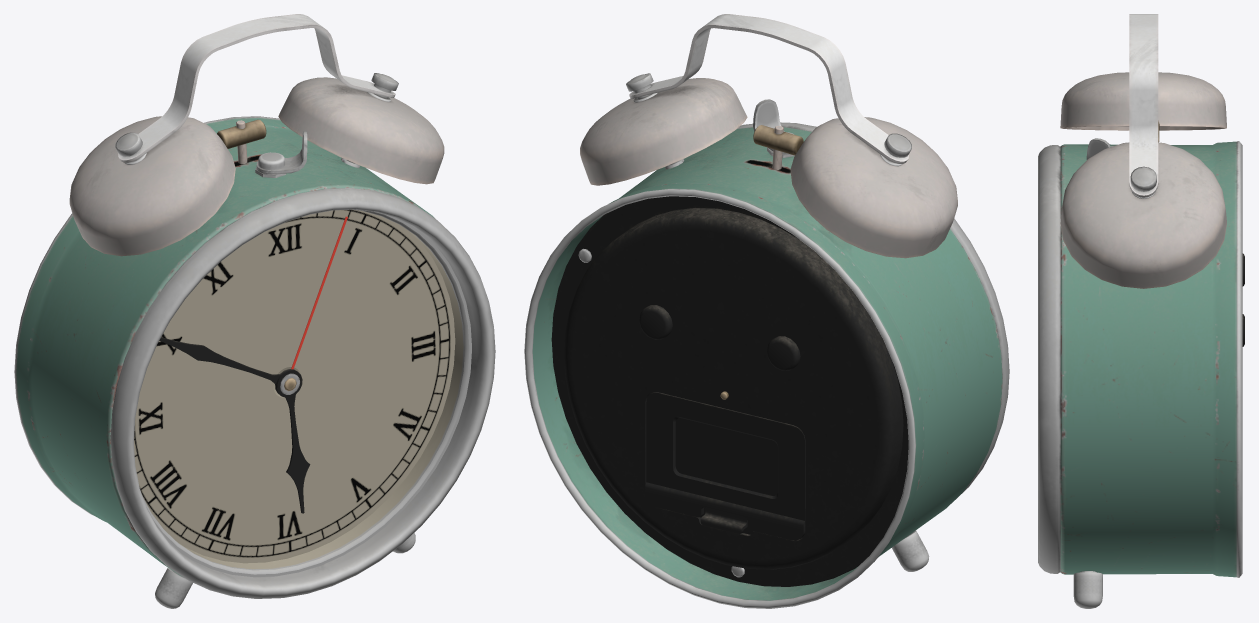
The model's file is clock.obj.
3 renders of one model, left to right at view 1: azimuth 30°, elevation 25°; view 2: azimuth 150°, elevation 25°; view 3: azimuth 270°, elevation 25°, orthographic. The views are drawn at different scales.
Visible parts, largest first — view 1: alarm_clock_01, alarm_clock_01_hour_hand, alarm_clock_01_minute_hand; view 2: alarm_clock_01; view 3: alarm_clock_01.
Part boxes in pixels (x1,y1,x2,y2): alarm_clock_01: [14, 14, 495, 608]; alarm_clock_01_hour_hand: [276, 369, 310, 513]; alarm_clock_01_minute_hand: [159, 337, 295, 393]; alarm_clock_01: [524, 14, 1009, 608]; alarm_clock_01: [1038, 14, 1244, 608].
Size of the model in its own units: 0.1317 by 0.1742 by 0.0622.
Materials: 1 (1 with a texture image).
